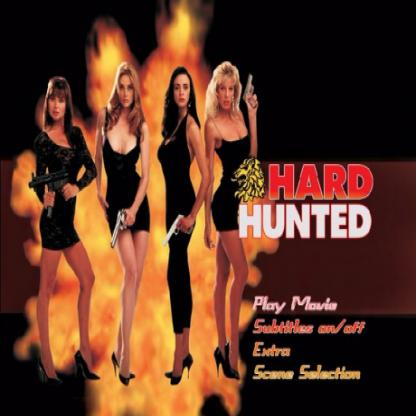Guns: (27, 162, 75, 221), (161, 210, 192, 245), (107, 202, 128, 252), (240, 70, 258, 111)
